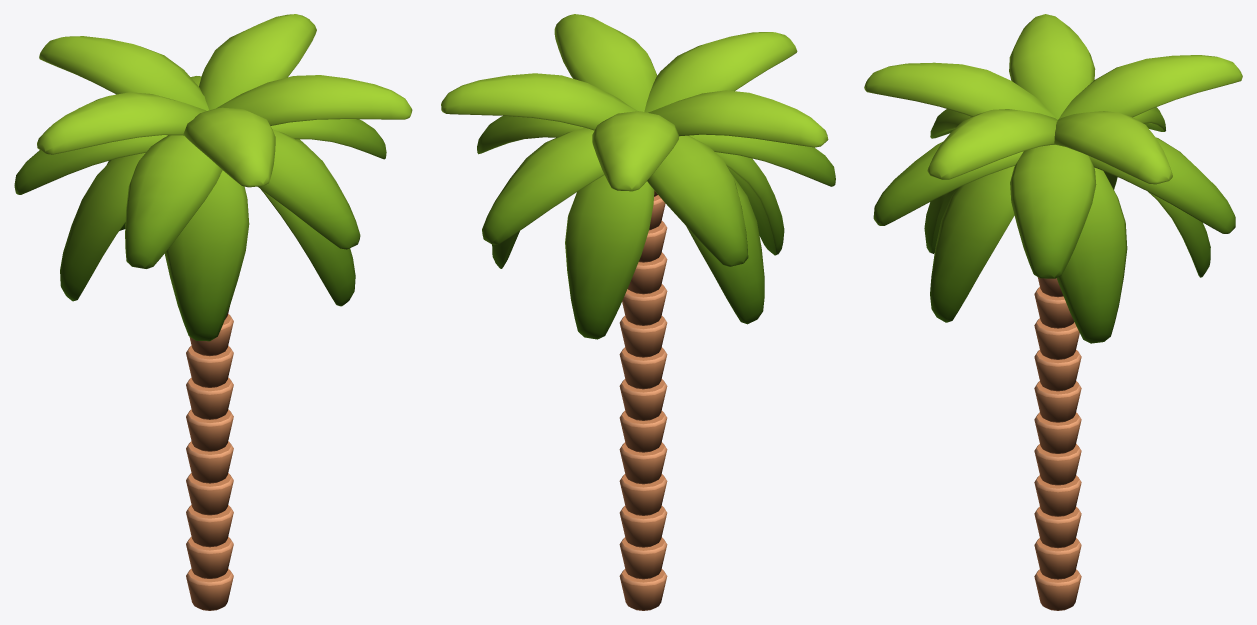
The model's file is lpb_tree_2_a.fbx.
3 renders of one model, left to right at view 1: azimuth 30°, elevation 25°; view 2: azimuth 150°, elevation 25°; view 3: azimuth 270°, elevation 25°, orthographic.
Parts seen in each view (by area): view 1: ap_tree_2; view 2: ap_tree_2; view 3: ap_tree_2.
Part boxes in pixels (bbox=[...]): ap_tree_2: bbox=[14, 14, 412, 610]; ap_tree_2: bbox=[441, 14, 835, 610]; ap_tree_2: bbox=[864, 14, 1242, 610].
Bounding box in the file's own units: 404 × 594 × 390.
